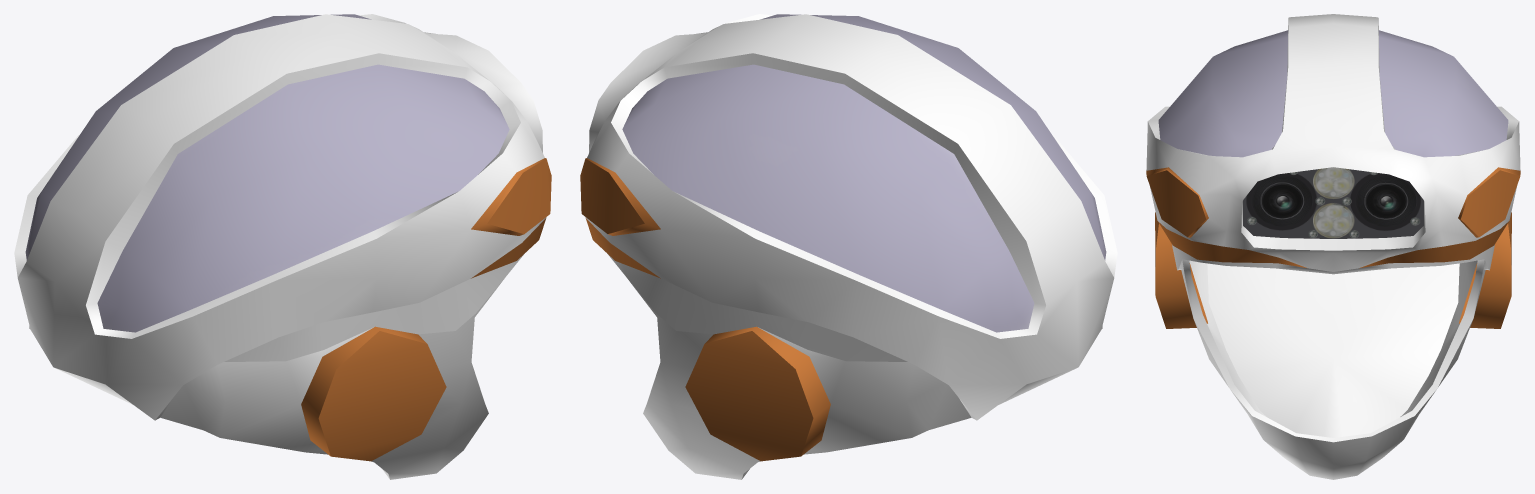
Rendered from head_multisense_no_visor.dae.
3 views of the same model, side by side, from view 1: azimuth 30°, elevation 25°; view 2: azimuth 150°, elevation 25°; view 3: azimuth 270°, elevation 25° (orthographic). The views are drawn at different scales.
Visible parts, largest first — view 1: Cylinder; view 2: Cylinder; view 3: Cylinder.
Boxes of the visible parts, x1,y1,x2,y2 form: Cylinder: (14,14,551,479); Cylinder: (580,14,1117,479); Cylinder: (1146,14,1520,479).
Bounding box in the file's own units: 0.2895 × 0.2532 × 0.2858.
1 material, 1 textured.
